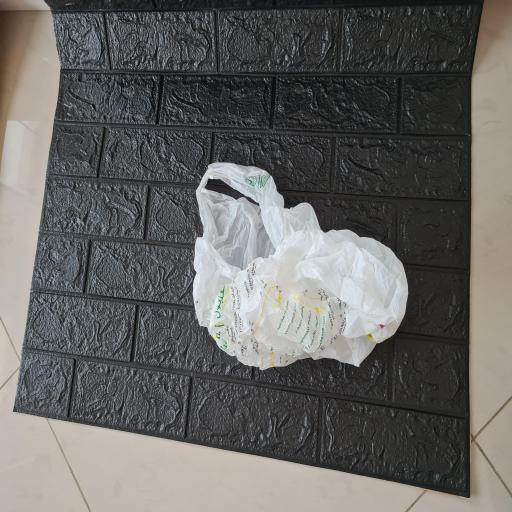plastic bag: (191, 159, 411, 373)
